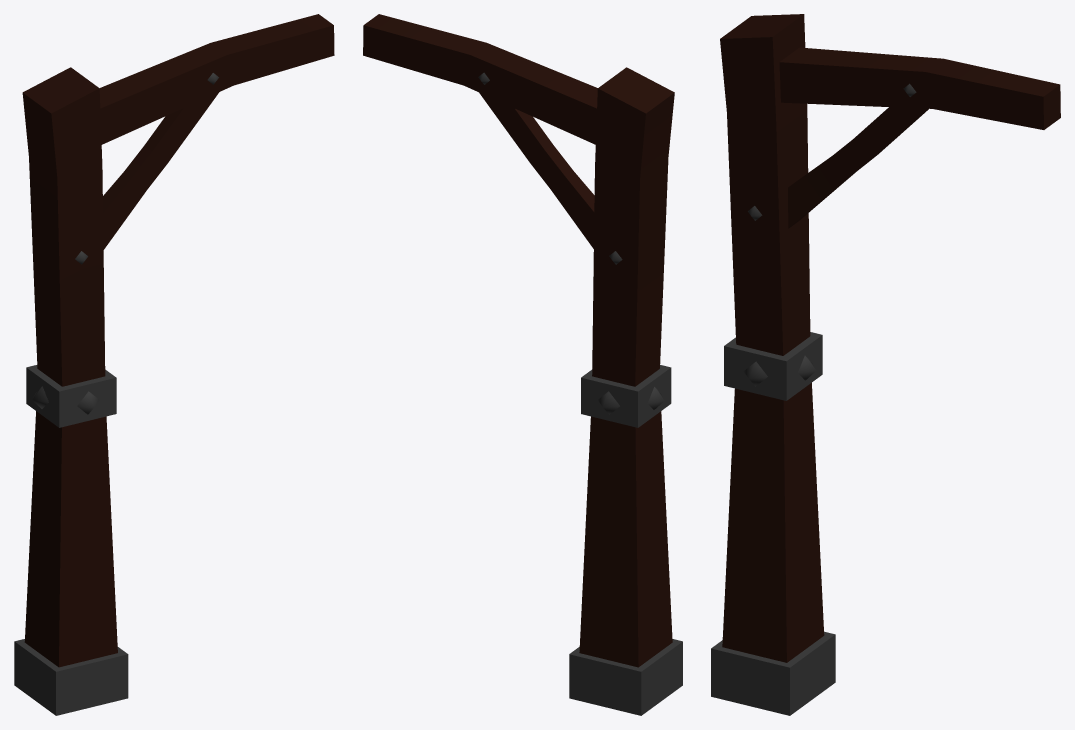
Rendered from WOOD_LIGHT_SUPPORT.fbx.
3 renders of one model, left to right at view 1: azimuth 30°, elevation 25°; view 2: azimuth 150°, elevation 25°; view 3: azimuth 330°, elevation 25°, orthographic. The views are drawn at different scales.
Visible parts, largest first — view 1: Box012; view 2: Box012; view 3: Box012.
Boxes of the visible parts, x1,y1,x2,y2 form: Box012: (14,14,334,715); Box012: (363,14,682,715); Box012: (711,14,1060,715).
Bounding box in the file's own units: 0.4084 × 0.8097 × 0.108.
